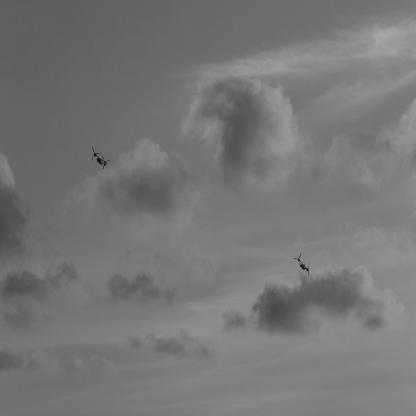V22: (92, 147, 111, 171), (295, 254, 312, 277)
